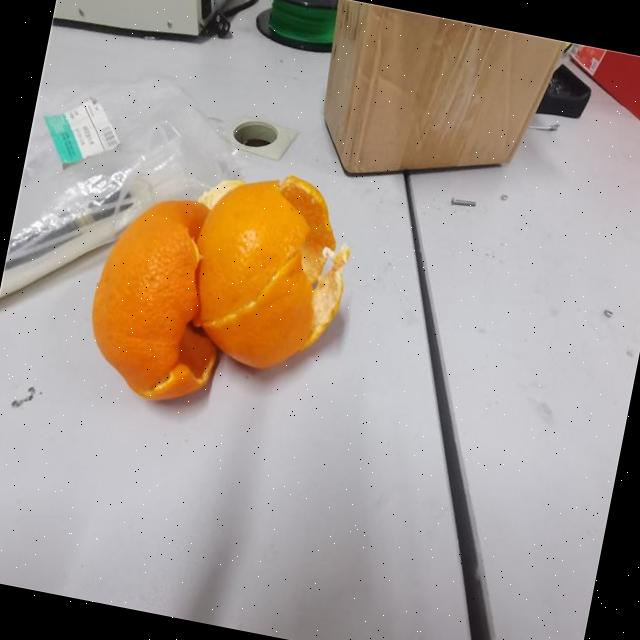orange-peel: (75, 140, 364, 433)
